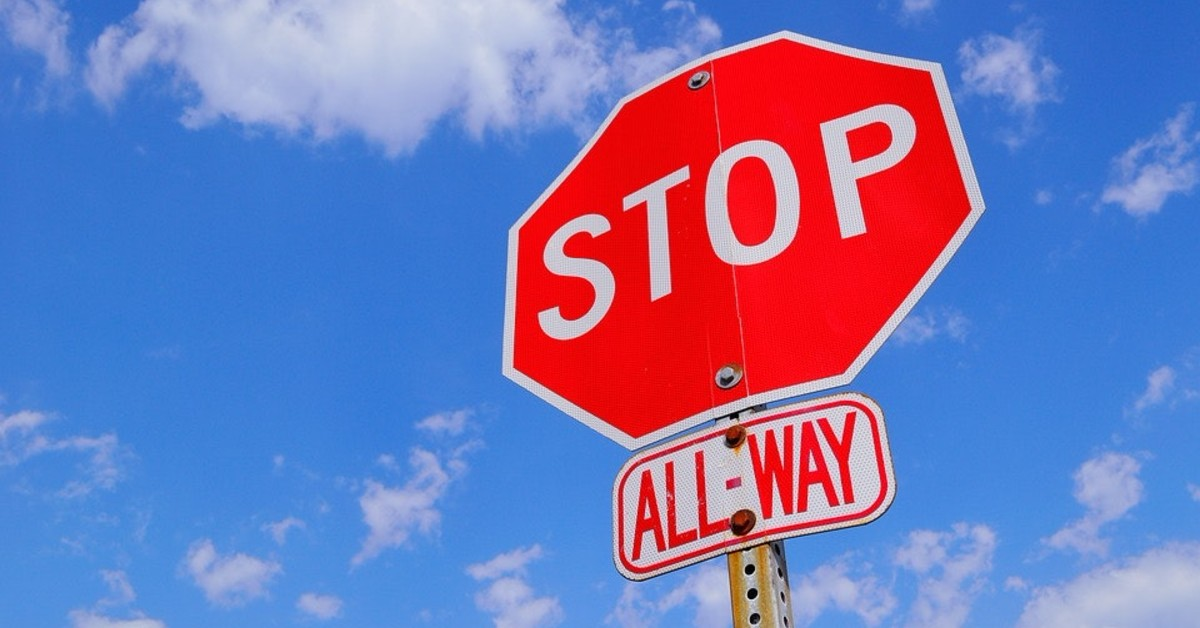stopsign: (504, 31, 973, 450)
